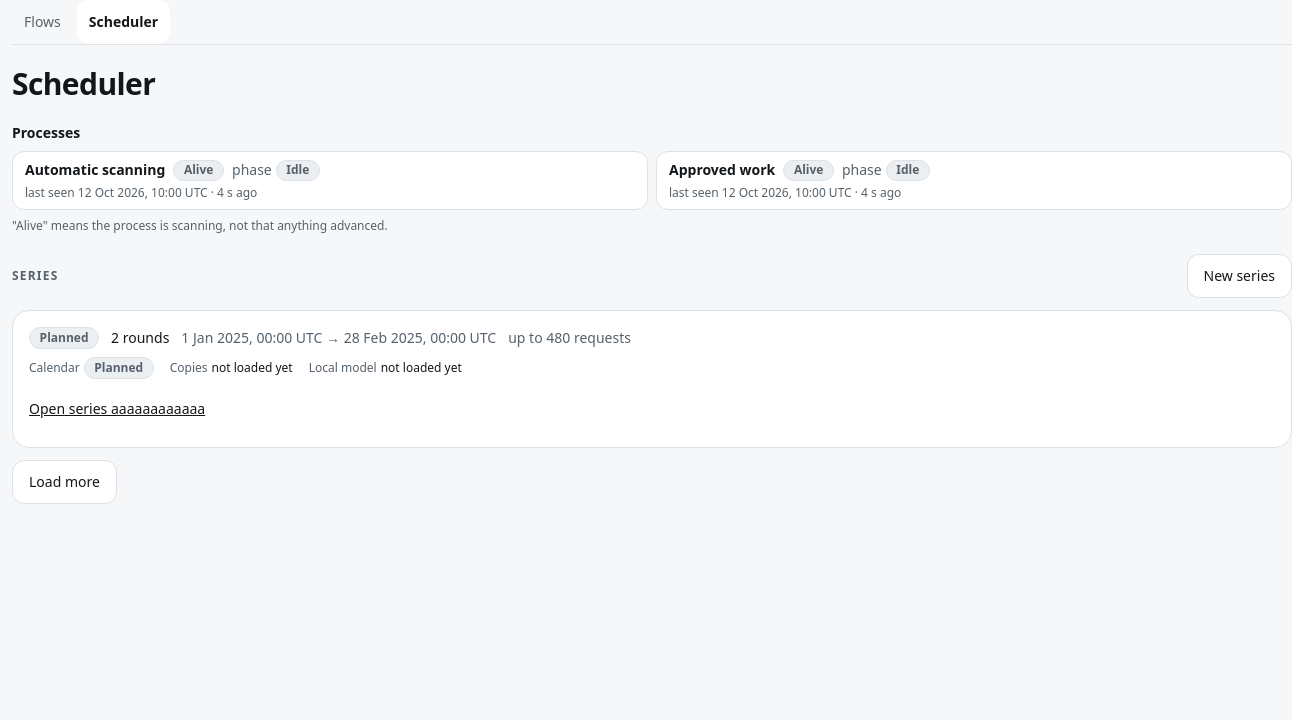
Test: Scheduler index › loads more with the cursor and appends; a 409 restarts at page one with a notice
Click the button "Load more". click: (64, 482)
box: [12,460,117,504]
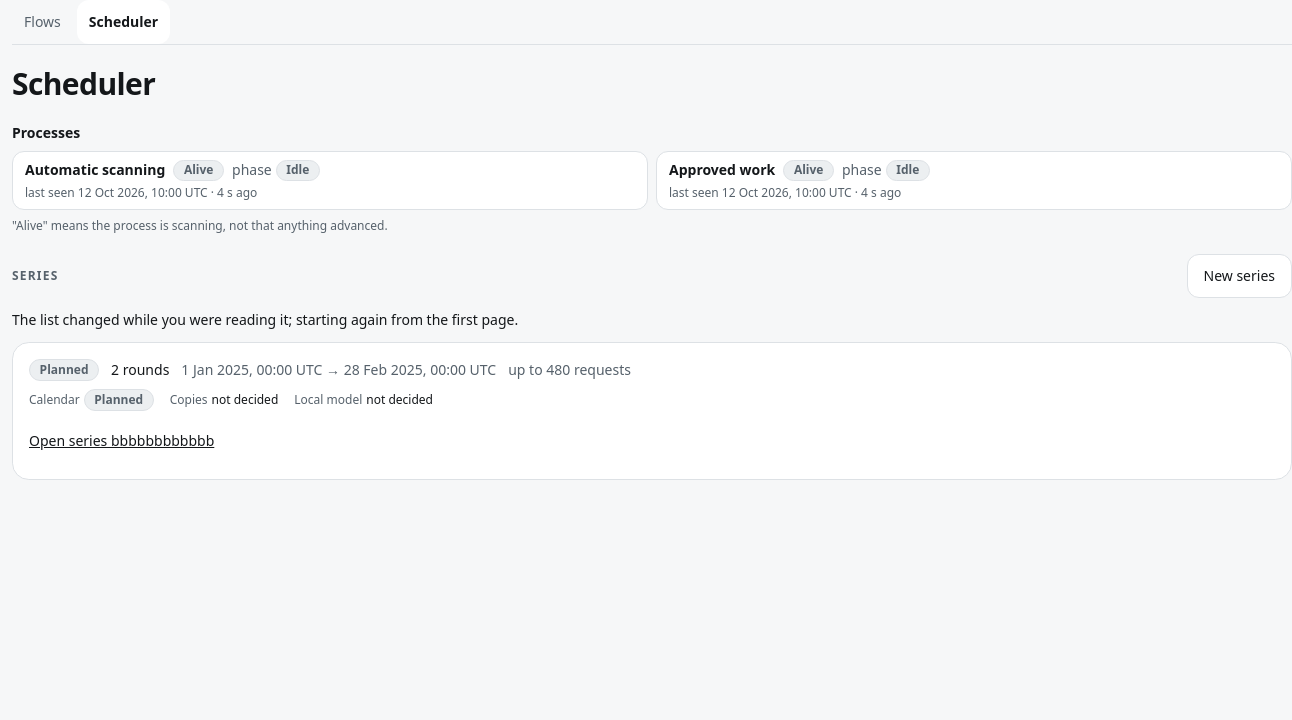
Check: the number of list items named "Series " is 1, box [12,342,1291,480]
Check: the text "The list changed while you were reading it; starting again from the first page." is shown, box [12,310,518,330]
Check: the button "Load more" is gone
